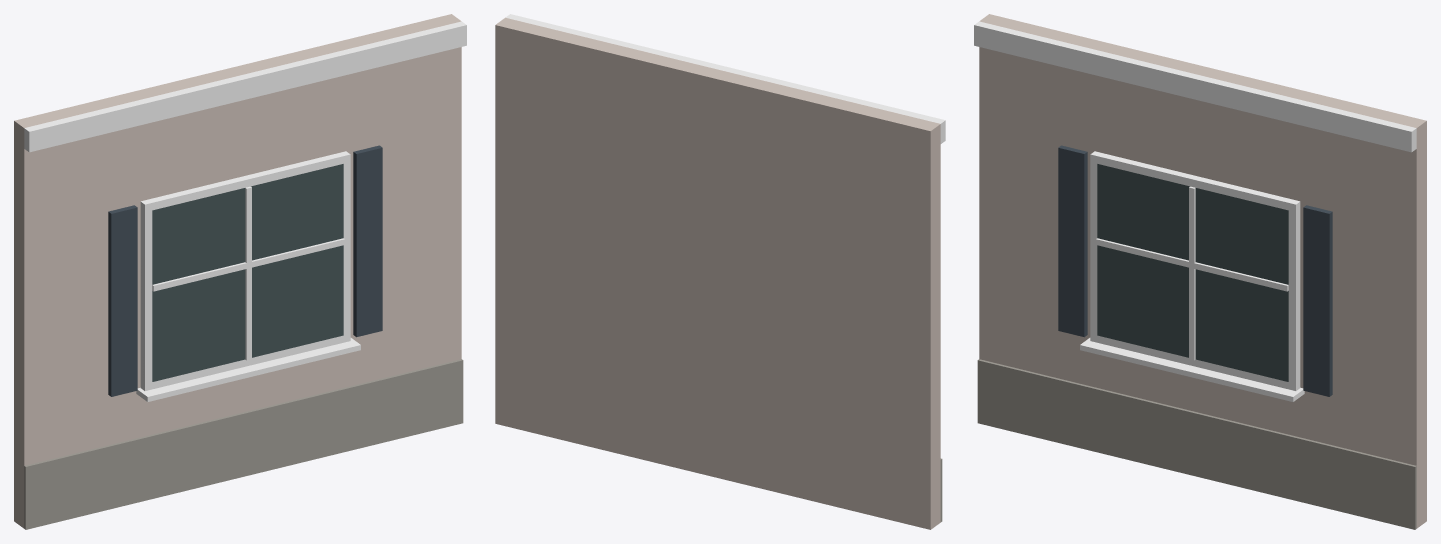
The model's file is mid-w1.fbx.
3 views of the same model, side by side, from view 1: azimuth 30°, elevation 25°; view 2: azimuth 150°, elevation 25°; view 3: azimuth 330°, elevation 25° (orthographic).
Parts seen in each view (by area): view 1: a2000/0/mid-w1; view 2: a2000/0/mid-w1; view 3: a2000/0/mid-w1.
Part boxes in pixels (x1=…): a2000/0/mid-w1: x1=14, y1=14, x2=466, y2=529; a2000/0/mid-w1: x1=495, y1=14, x2=945, y2=529; a2000/0/mid-w1: x1=974, y1=14, x2=1426, y2=529.
Bounding box in the file's own units: 4 × 3.5 × 0.34.
